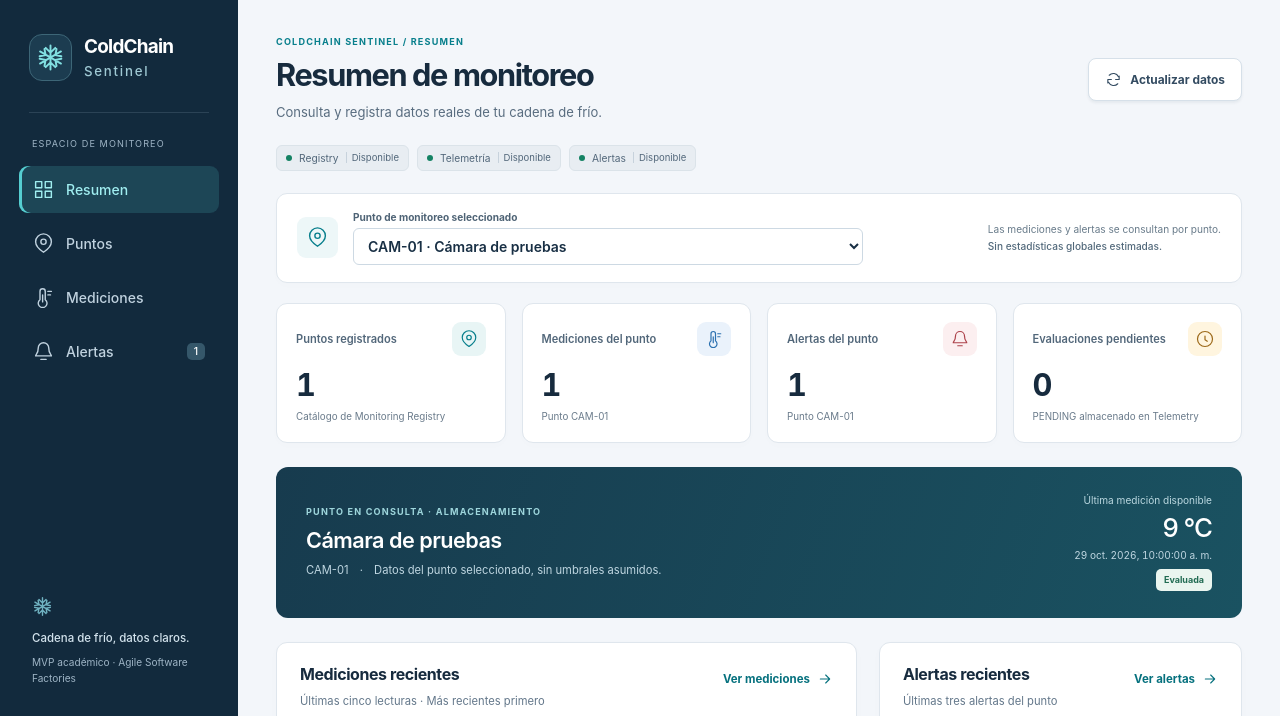
Scenario: dashboard y navegación › actualiza la lista y selecciona el punto tras un registro real confirmado
The width and height of the screenshot is (1280, 716).
Expected: the heading "Cámara de pruebas" is shown, [306,527,502,553]
Click the button "Puntos".
click(119, 243)  # box [19,220,219,266]
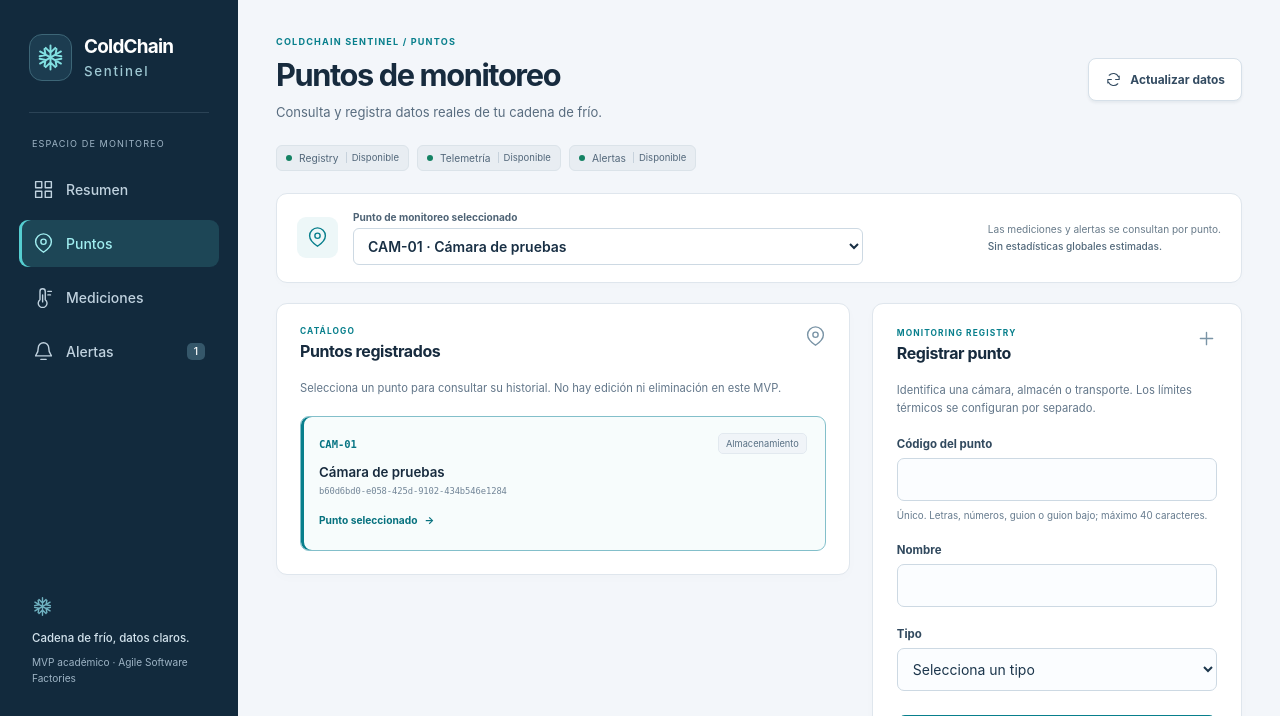
Type "TR-02" into the field labelled "Código del punto".
click(1057, 479); type("TR-02")  # box [897,458,1217,501]
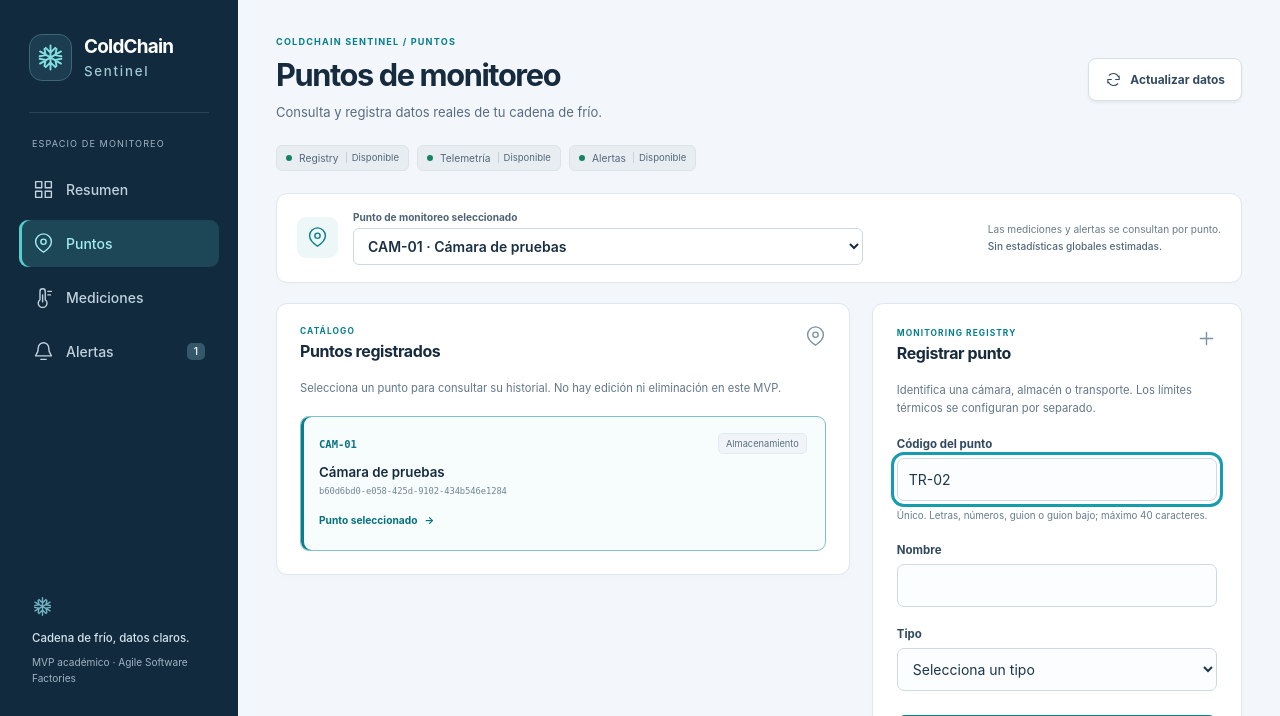
Type "Transporte de pruebas" into the field labelled "Nombre".
click(1057, 586); type("Transporte de pruebas")  # box [897,564,1217,607]
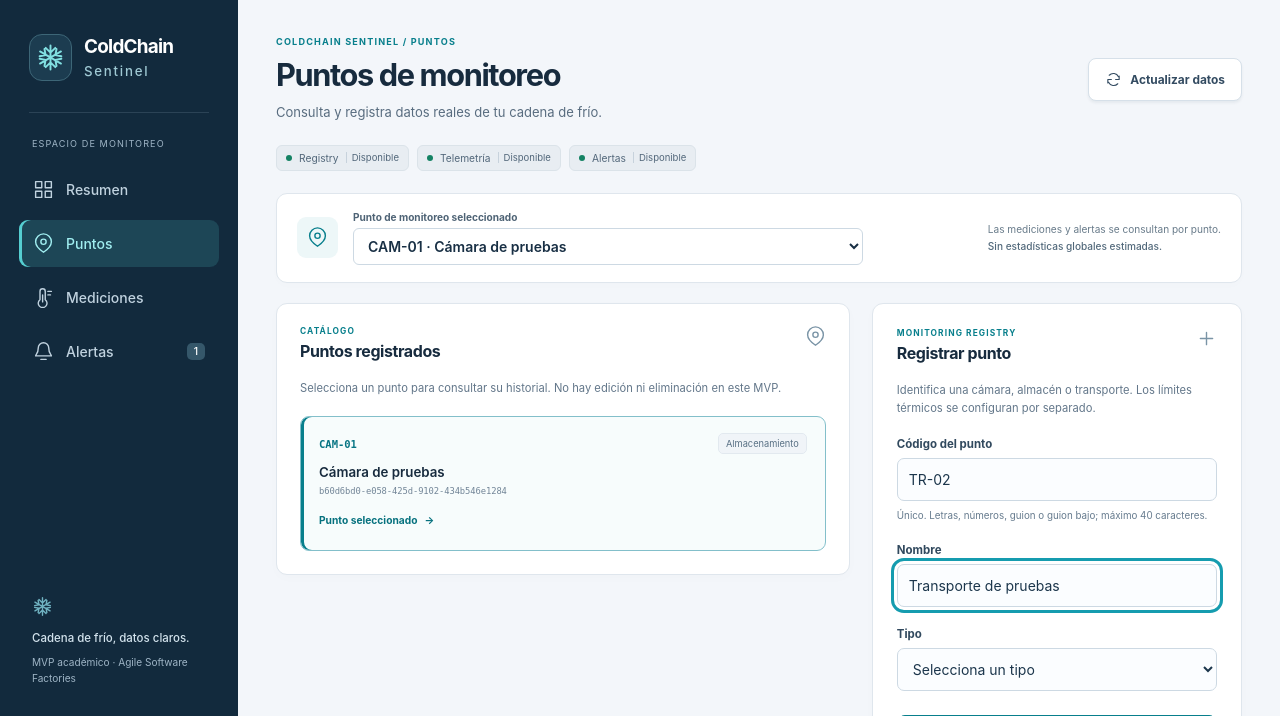
Select "Transporte" in the dropdown labelled "Tipo" at [1057, 670], box [897,648,1217,691]
(page scrolled)
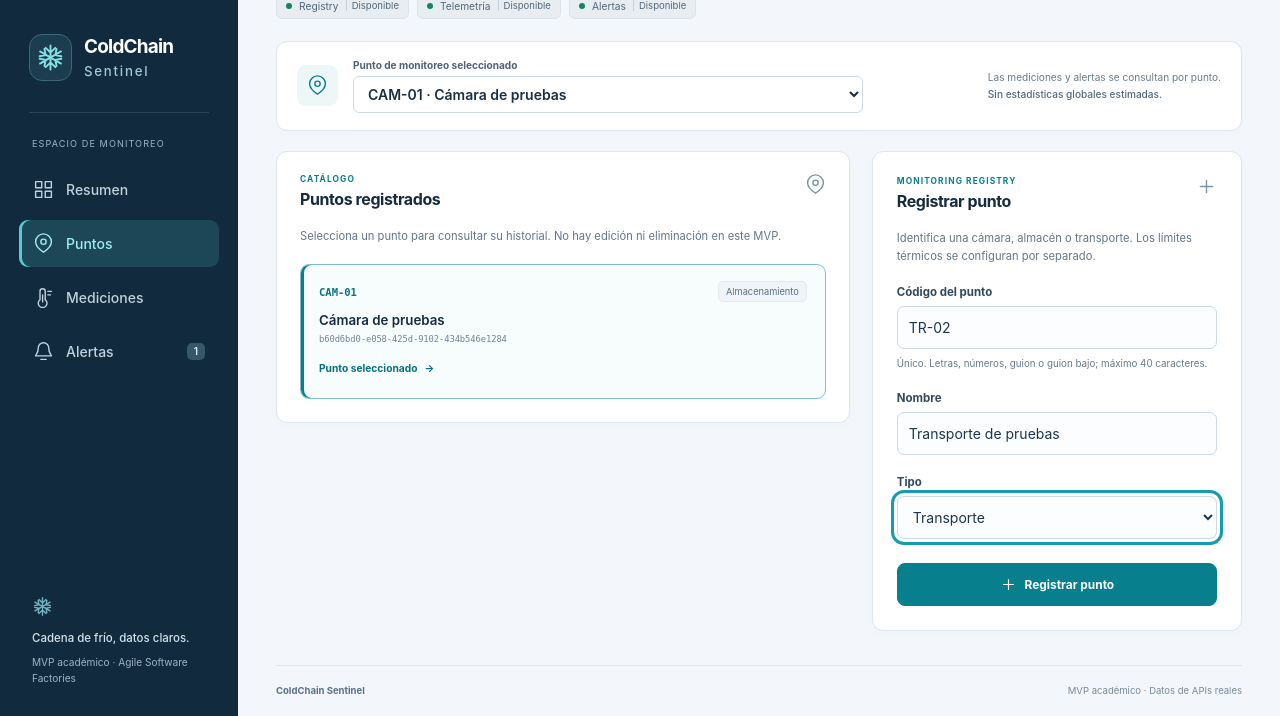
Click the button "Registrar punto".
click(1057, 585)  # box [897,563,1217,606]
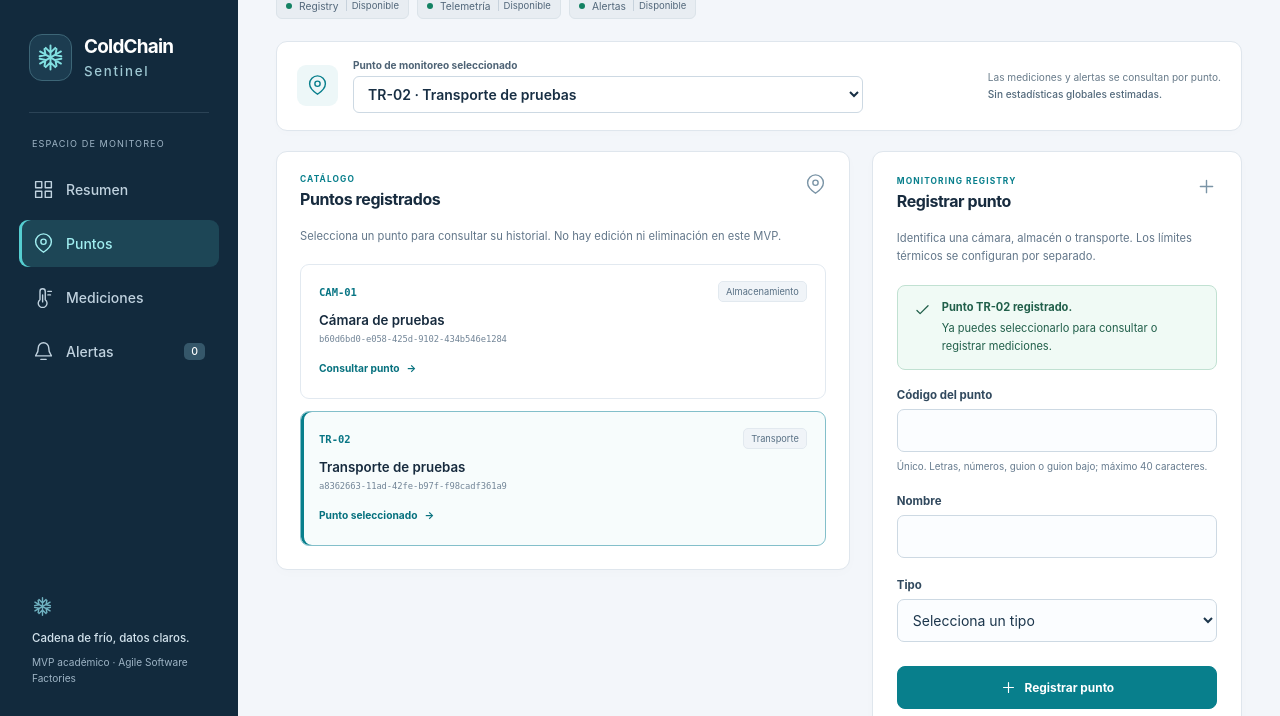
Expected: the text "Punto TR-02 registrado." is shown, [942,300,1072,314]
Expected: the dropdown labelled "Punto de monitoreo seleccionado" shows "TR-02 · Transporte de pruebas", [353,76,863,113]
Expected: the heading "Transporte de pruebas" is shown, [319,459,465,475]
